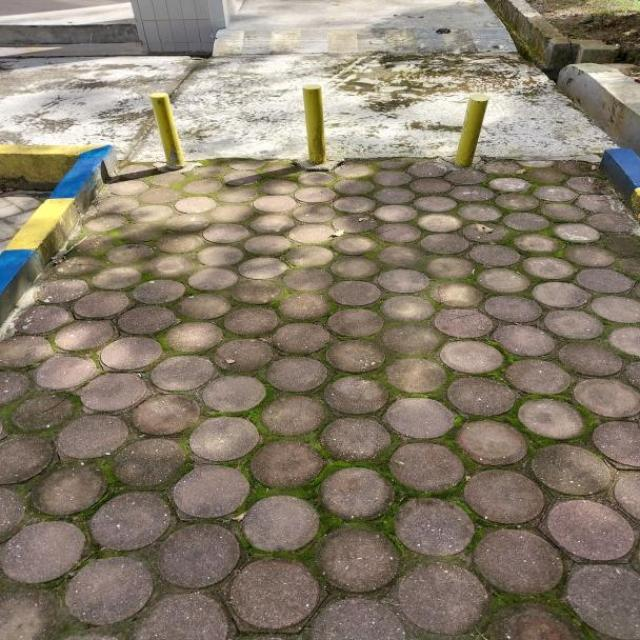barrier ahead at: (145, 90, 195, 176), (297, 83, 339, 169), (455, 85, 491, 175)
